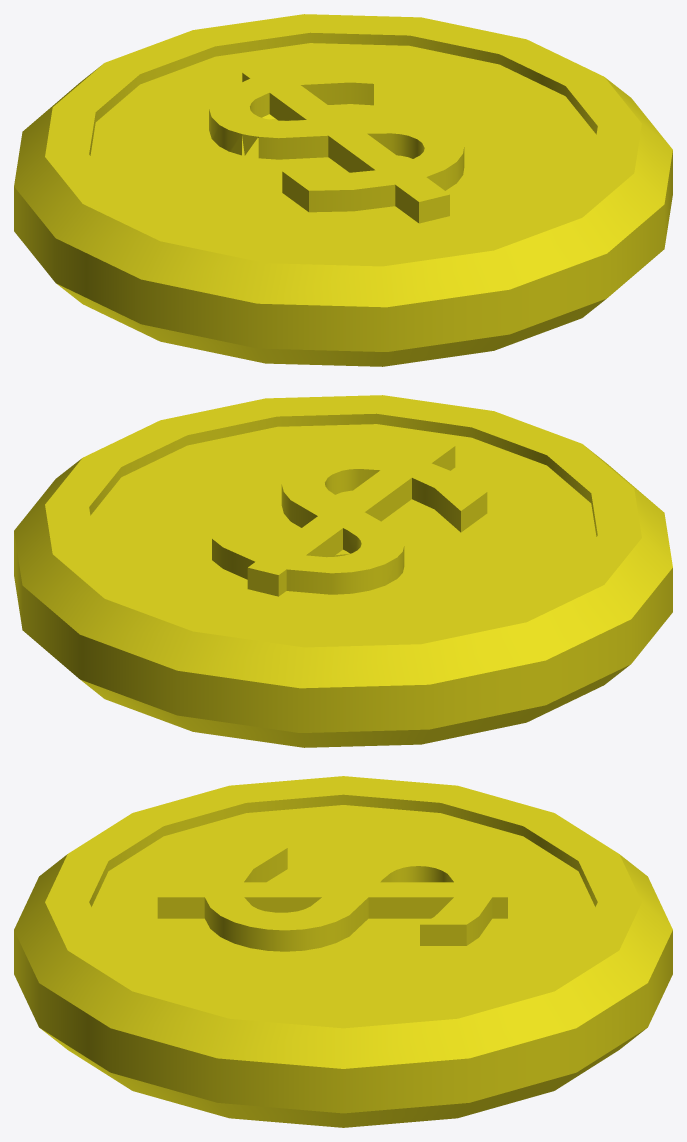
The model's file is CoinTexture.glb.
3 renders of one model, top to bottom at view 1: azimuth 30°, elevation 25°; view 2: azimuth 150°, elevation 25°; view 3: azimuth 270°, elevation 25°, orthographic.
Parts seen in each view (by area): view 1: Coin_Texture; view 2: Coin_Texture; view 3: Coin_Texture.
Part boxes in pixels (x1,y1,x2,y2): Coin_Texture: (14, 14, 672, 366); Coin_Texture: (14, 395, 672, 747); Coin_Texture: (14, 776, 672, 1127).
Size of the model in its own units: 0.6 by 0.1183 by 0.6.
